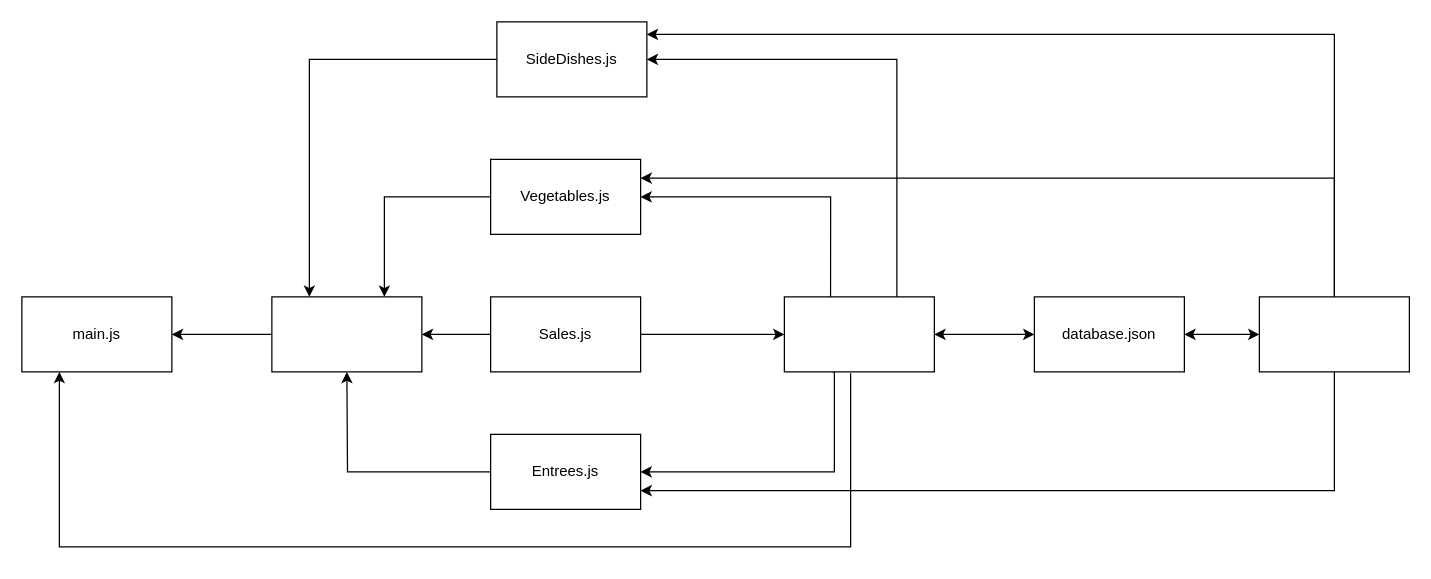
Some shapes in this 1431 by 579 pixel diagram are drawn without their labels. Each missing label, with the centre of its shape:
"API" goes at point 1333,334.
"FoodTruck.js" goes at point 346,334.
"TransientState.js" goes at point 858,334.
